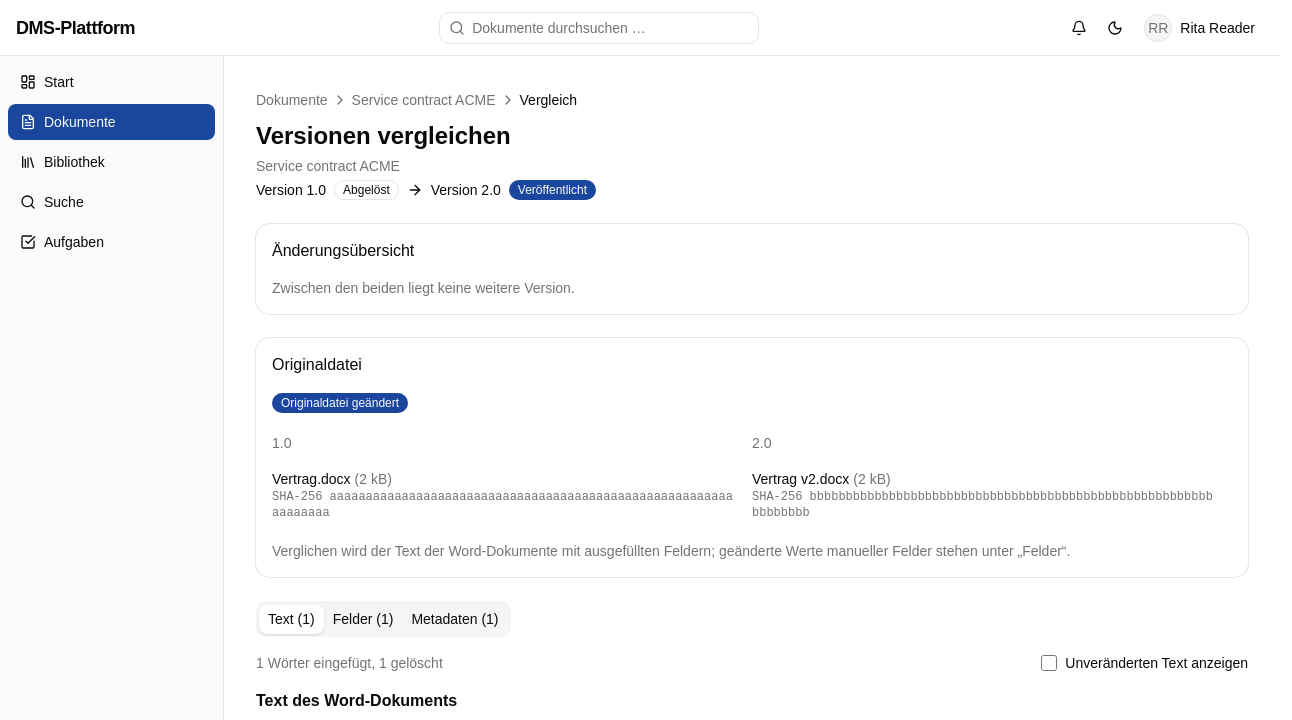
Test: Version comparison › compares file documents by their Word text and shows the originals, in German (DMS-121)
Check: the text "Originaldatei geändert" is shown, box left=272, top=393, right=408, bottom=413
Check: the text "Vertrag.docx" is shown, box left=272, top=471, right=351, bottom=487
Click the tab "Felder (1)" at (363, 619), box left=324, top=604, right=402, bottom=634
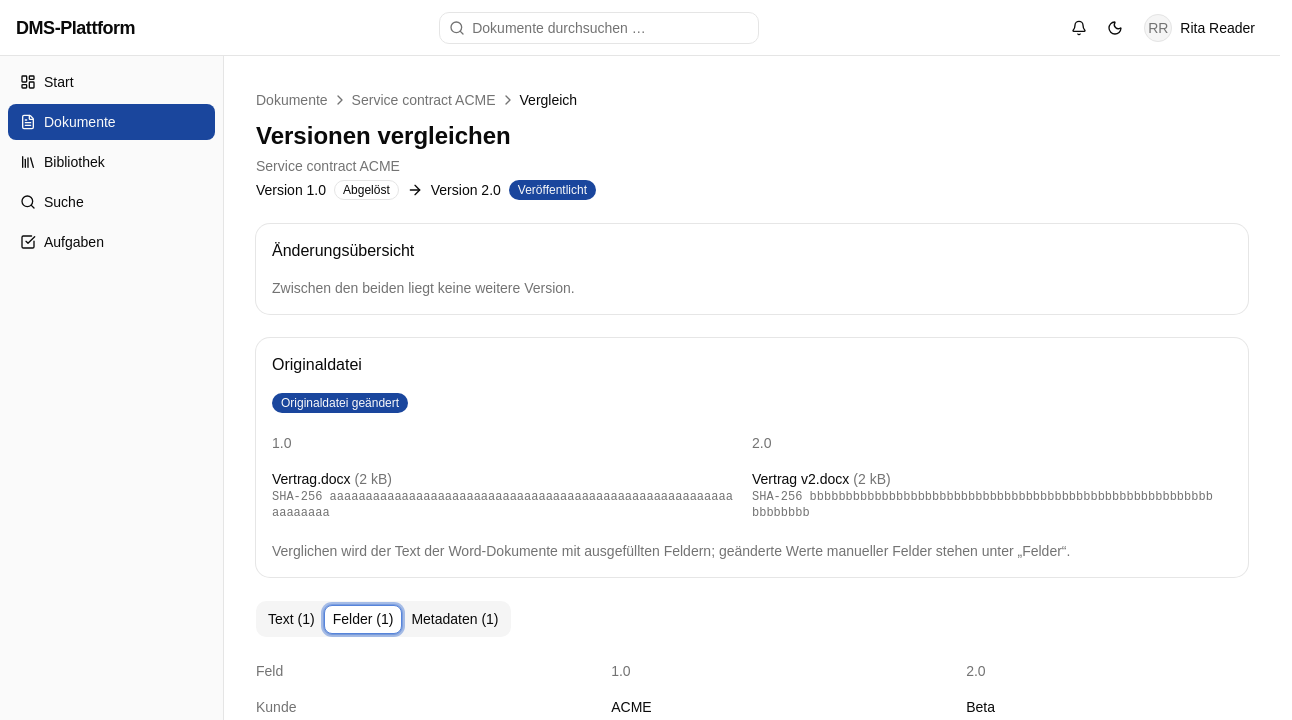
Click the tab "Metadaten (1)" at (455, 619), box left=402, top=604, right=508, bottom=634
(page scrolled)
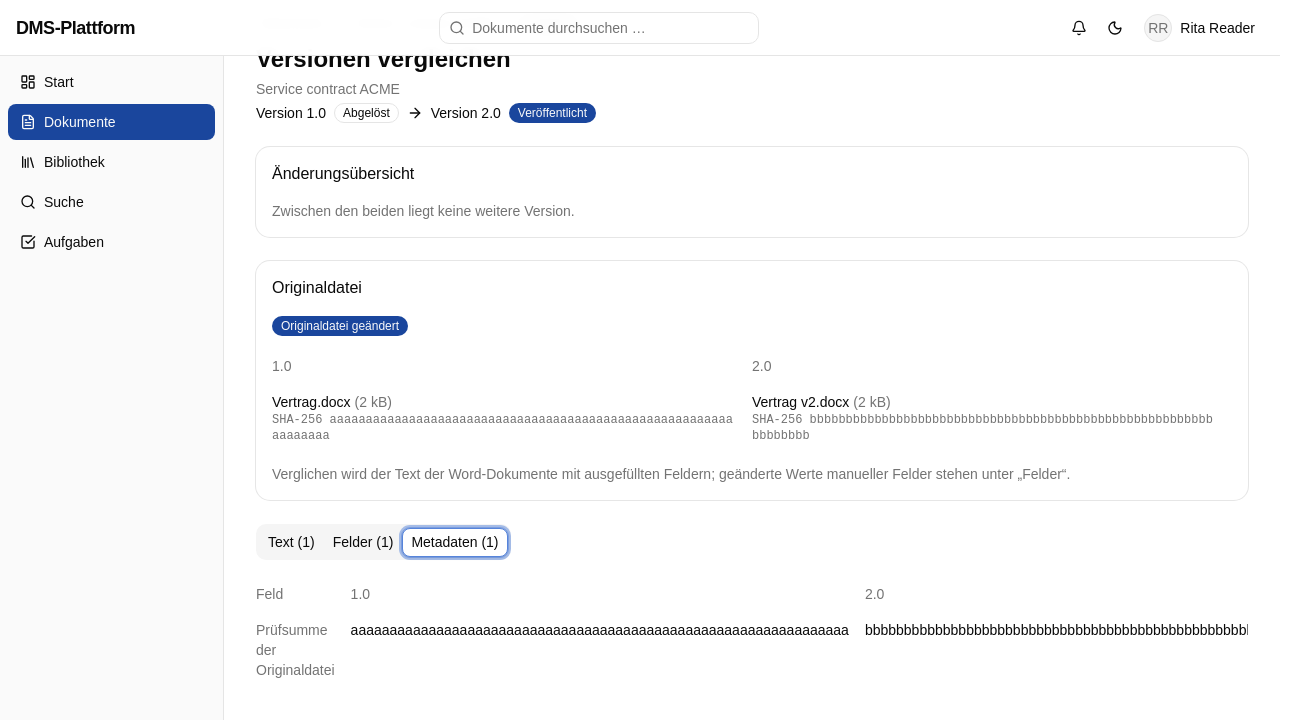
Check: the row "Prüfsumme der Originaldatei" is shown, box left=256, top=612, right=1248, bottom=688
